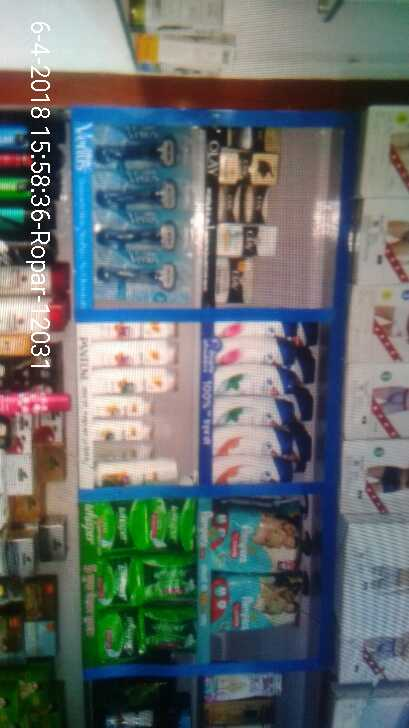venus: (90, 126, 191, 174), (91, 175, 194, 216), (91, 258, 192, 299), (91, 219, 191, 254)
